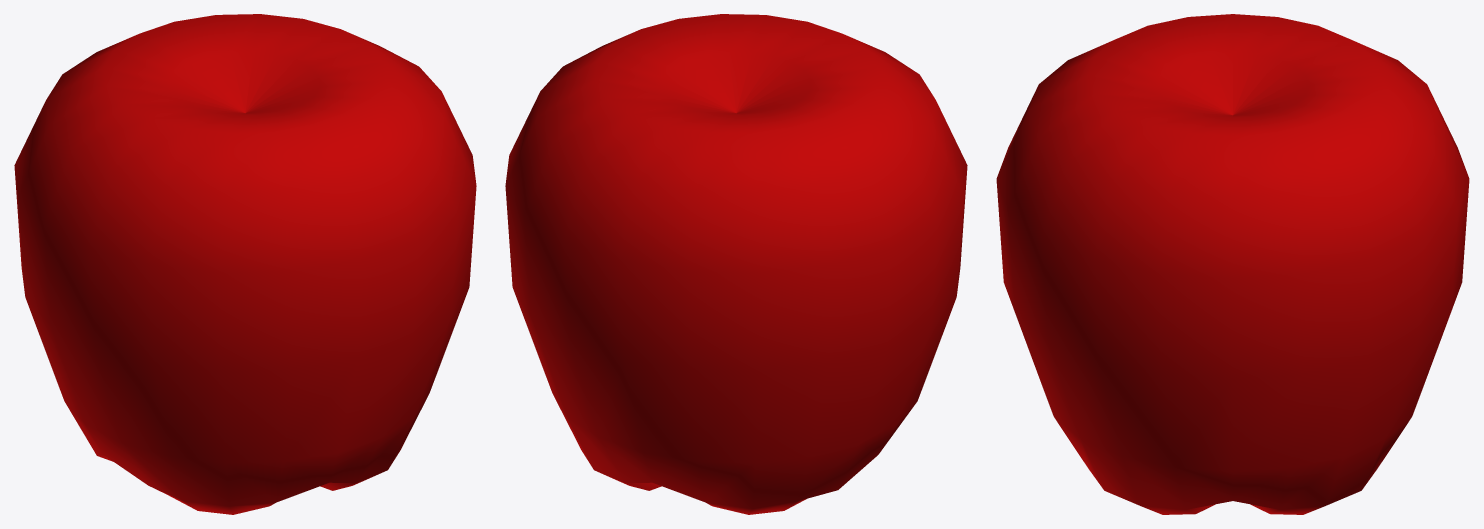
Rendered from mesh_apple_cut00.fbx.
3 views of the same model, side by side, from view 1: azimuth 30°, elevation 25°; view 2: azimuth 150°, elevation 25°; view 3: azimuth 270°, elevation 25° (orthographic).
Visible parts, largest first — view 1: mesh_apple_cut00; view 2: mesh_apple_cut00; view 3: mesh_apple_cut00.
Part boxes in pixels (bbox=[...]): mesh_apple_cut00: bbox=[14, 14, 476, 514]; mesh_apple_cut00: bbox=[505, 14, 967, 514]; mesh_apple_cut00: bbox=[996, 14, 1469, 514].
Size of the model in its own units: 0.1525 by 0.1419 by 0.1525.
